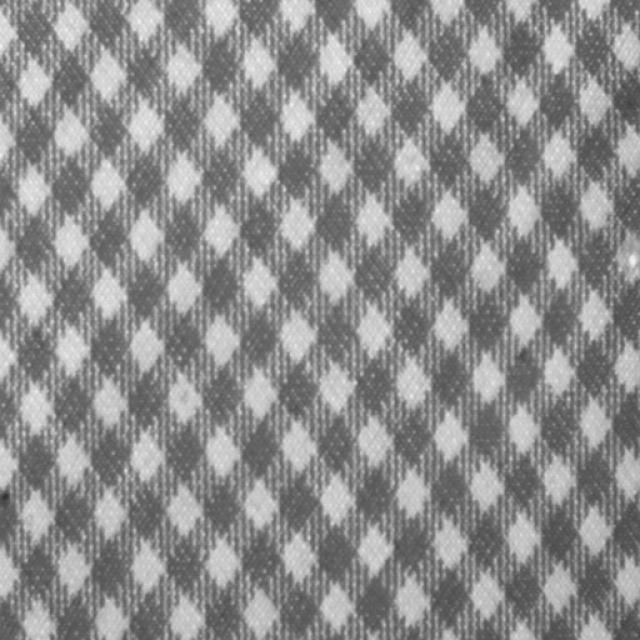Hole-Defect: (619, 239, 639, 279)
